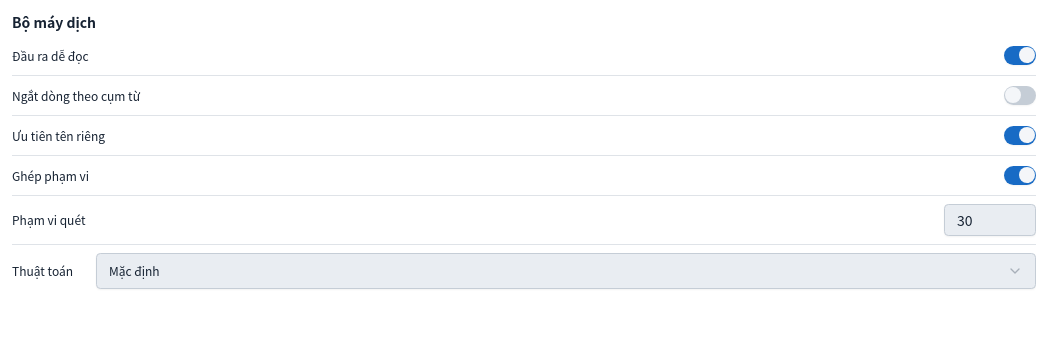
Scenario: tùy chọn thuật toán dịch › hiển thị nhãn dễ hiểu nhưng vẫn chọn đúng giá trị thuật toán
Click the dropdown named "Thuật toán" at (134, 270), box 96,253 -> 1036,289
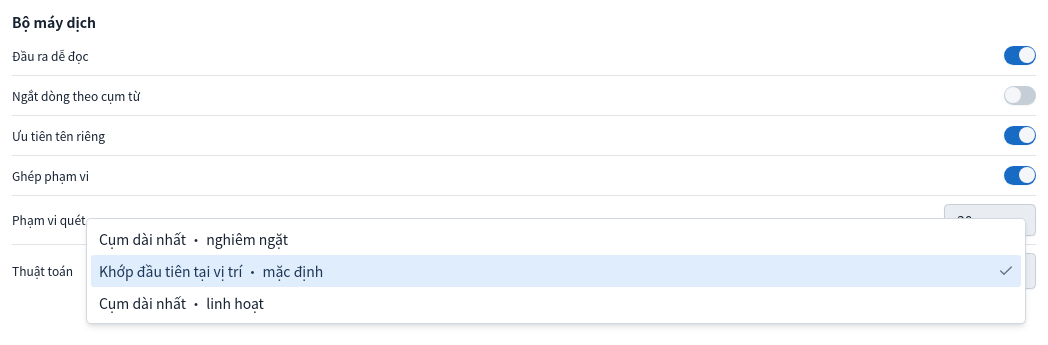
Expected: the option "Cụm dài nhất · nghiêm ngặt" is shown, 99,229 -> 288,249
Expected: the option "Khớp đầu tiên tại vị trí · mặc định" is shown, 91,255 -> 1021,287
Click the option "Cụm dài nhất · linh hoạt" at (181, 303), box 99,293 -> 264,313
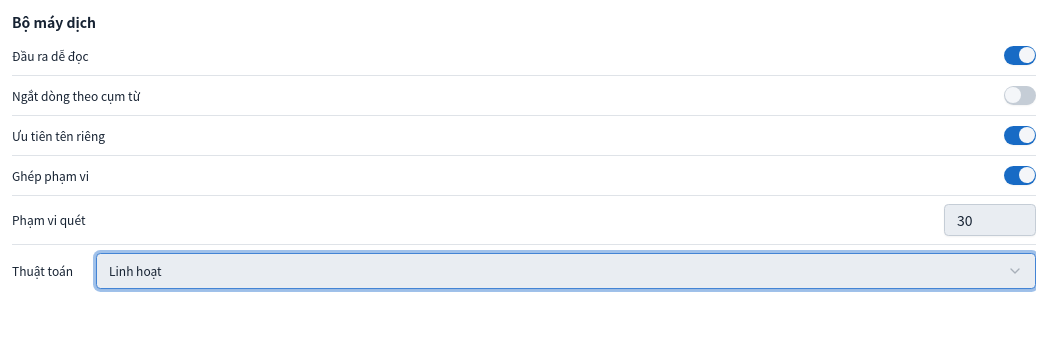
Expected: the dropdown named "Thuật toán" reads "Linh hoạt", 96,253 -> 1036,289
